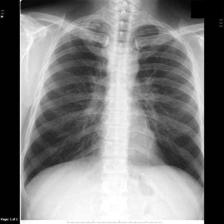tuberculosis: (19, 11, 205, 209)
